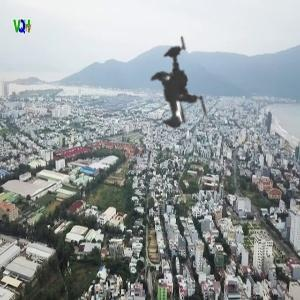drone: (90, 11, 251, 172)
